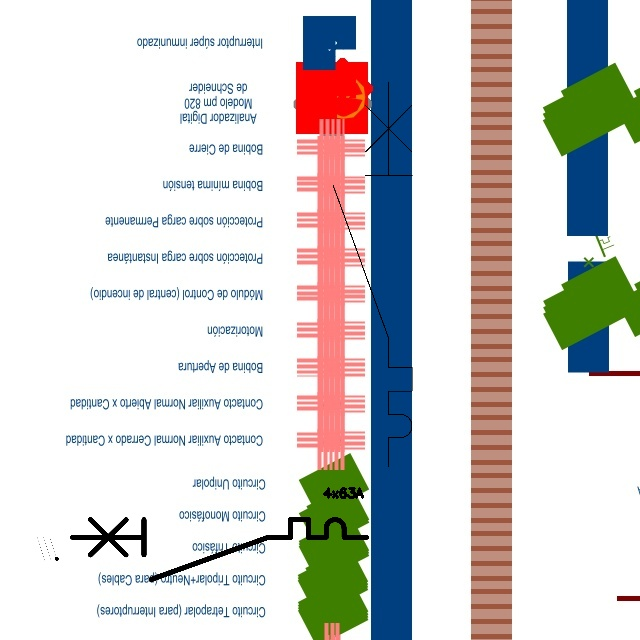interruptor_termomagnetico: (323, 72, 422, 477), (64, 512, 373, 587)
